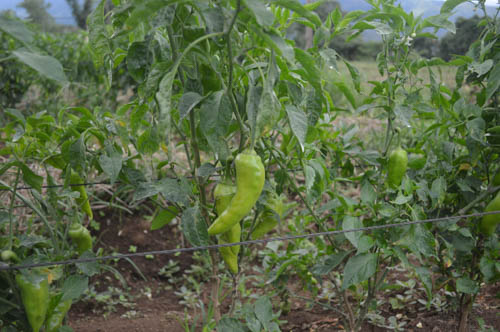ChiliPepper: (206, 152, 271, 234), (210, 184, 242, 250), (12, 279, 47, 328), (69, 174, 92, 216), (385, 149, 407, 186), (212, 242, 238, 273), (67, 229, 90, 247)
